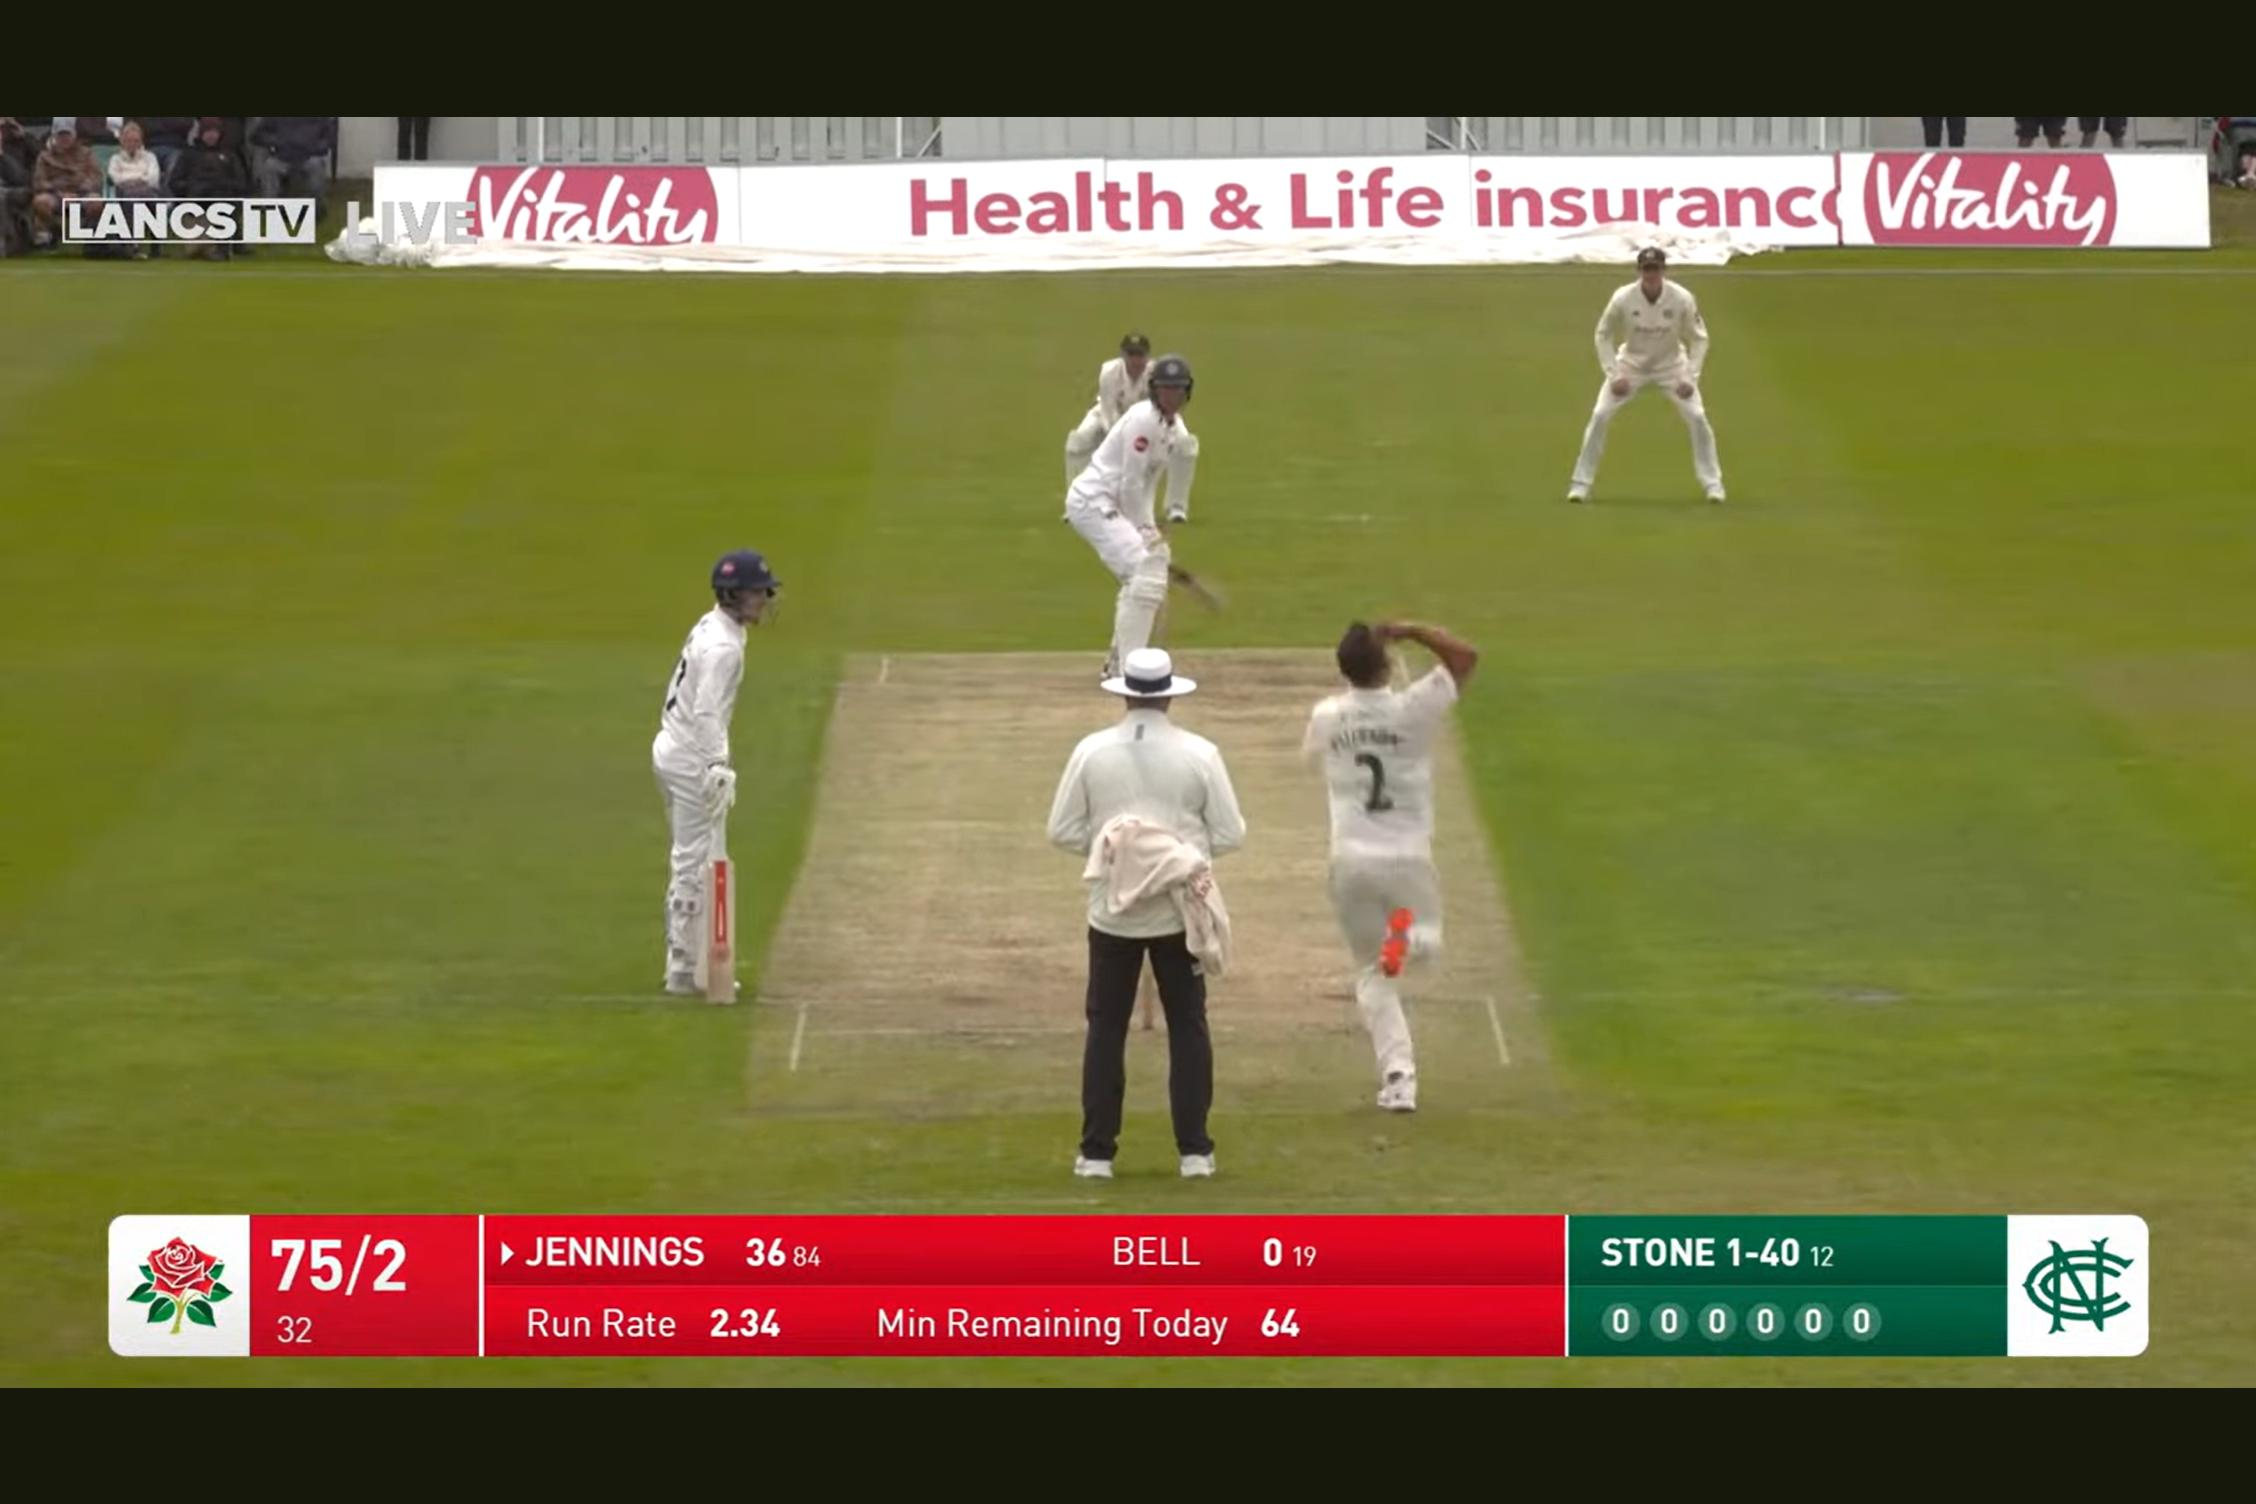batsman: (1052, 352, 1220, 631)
bowler running in: (1304, 596, 1511, 1120)
non striker: (643, 519, 822, 1019)
umpire: (1052, 641, 1247, 1187)
